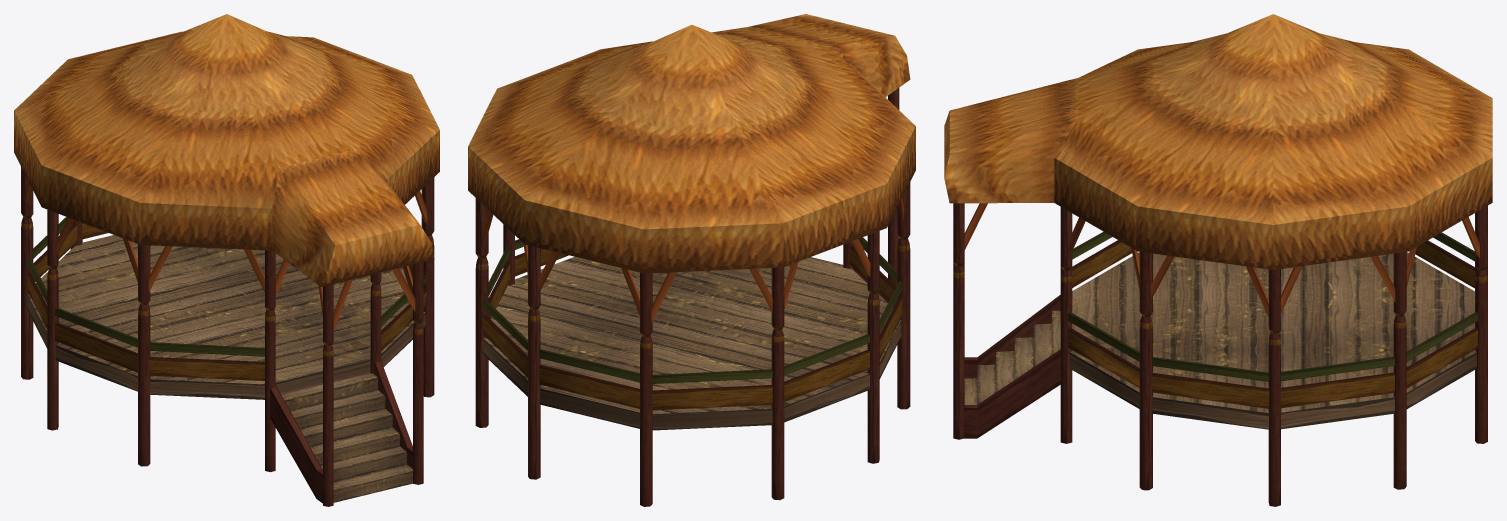
File: Hut_03.FBX
3 views of the same model, side by side, from view 1: azimuth 30°, elevation 25°; view 2: azimuth 150°, elevation 25°; view 3: azimuth 270°, elevation 25° (orthographic). The views are drawn at different scales.
Parts seen in each view (by area): view 1: Hut_03; view 2: Hut_03; view 3: Hut_03.
Boxes of the visible parts, left/top/right/bottom form: Hut_03: left=14, top=14, right=439, bottom=506; Hut_03: left=468, top=14, right=915, bottom=506; Hut_03: left=944, top=14, right=1492, bottom=506.
Bounding box in the file's own units: 5.52 × 6.58 × 5.29.
